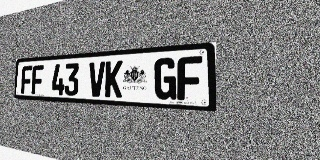3: (64, 63, 79, 96)
4: (52, 64, 65, 95)
F: (177, 56, 202, 101), (31, 65, 44, 94), (21, 65, 32, 94)
G: (154, 57, 177, 100)
K: (105, 60, 123, 98)
V: (88, 61, 105, 97)
